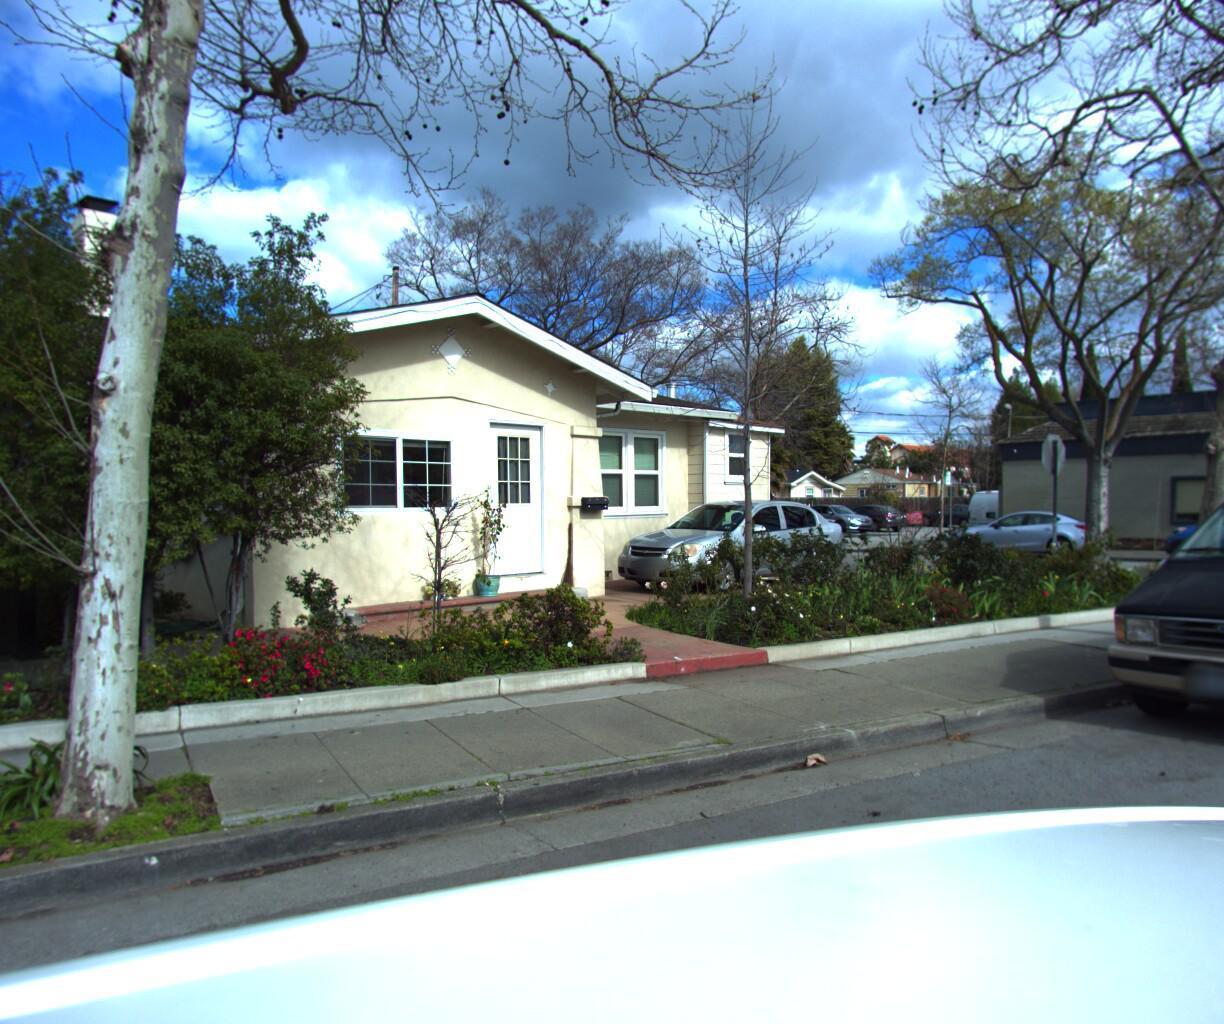car: (1080, 440, 1224, 793), (591, 493, 867, 603), (944, 508, 1120, 566), (1161, 498, 1224, 574)
